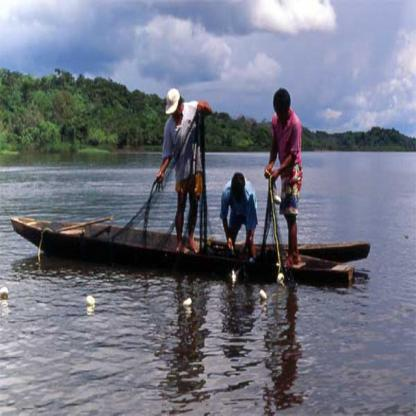face: (277, 108, 288, 124), (172, 105, 182, 122), (235, 193, 243, 203)
